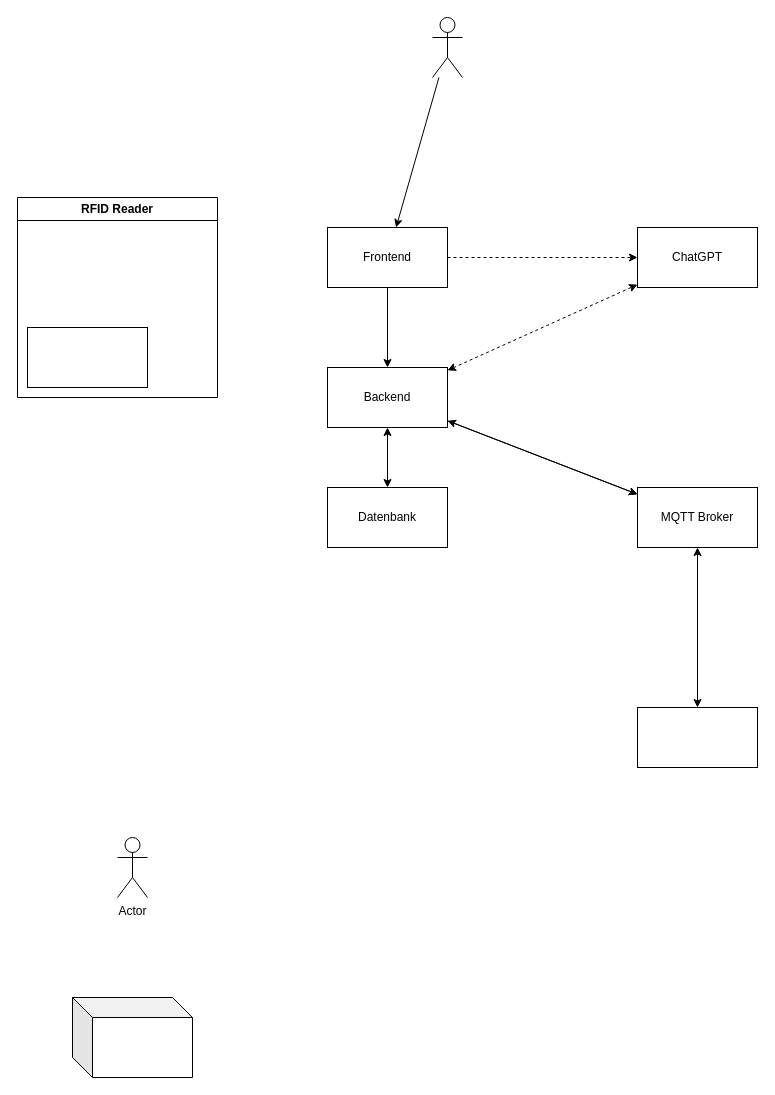
The diagram is 775 pixels wide and 1095 high, and some of its shapes have lost their labels. Each missing label, with the centre of its shape:
"ESP Home" belongs at pixel 87 357.
"Home Assistant" belongs at pixel 697 737.
"User" belongs at pixel 447 47.
